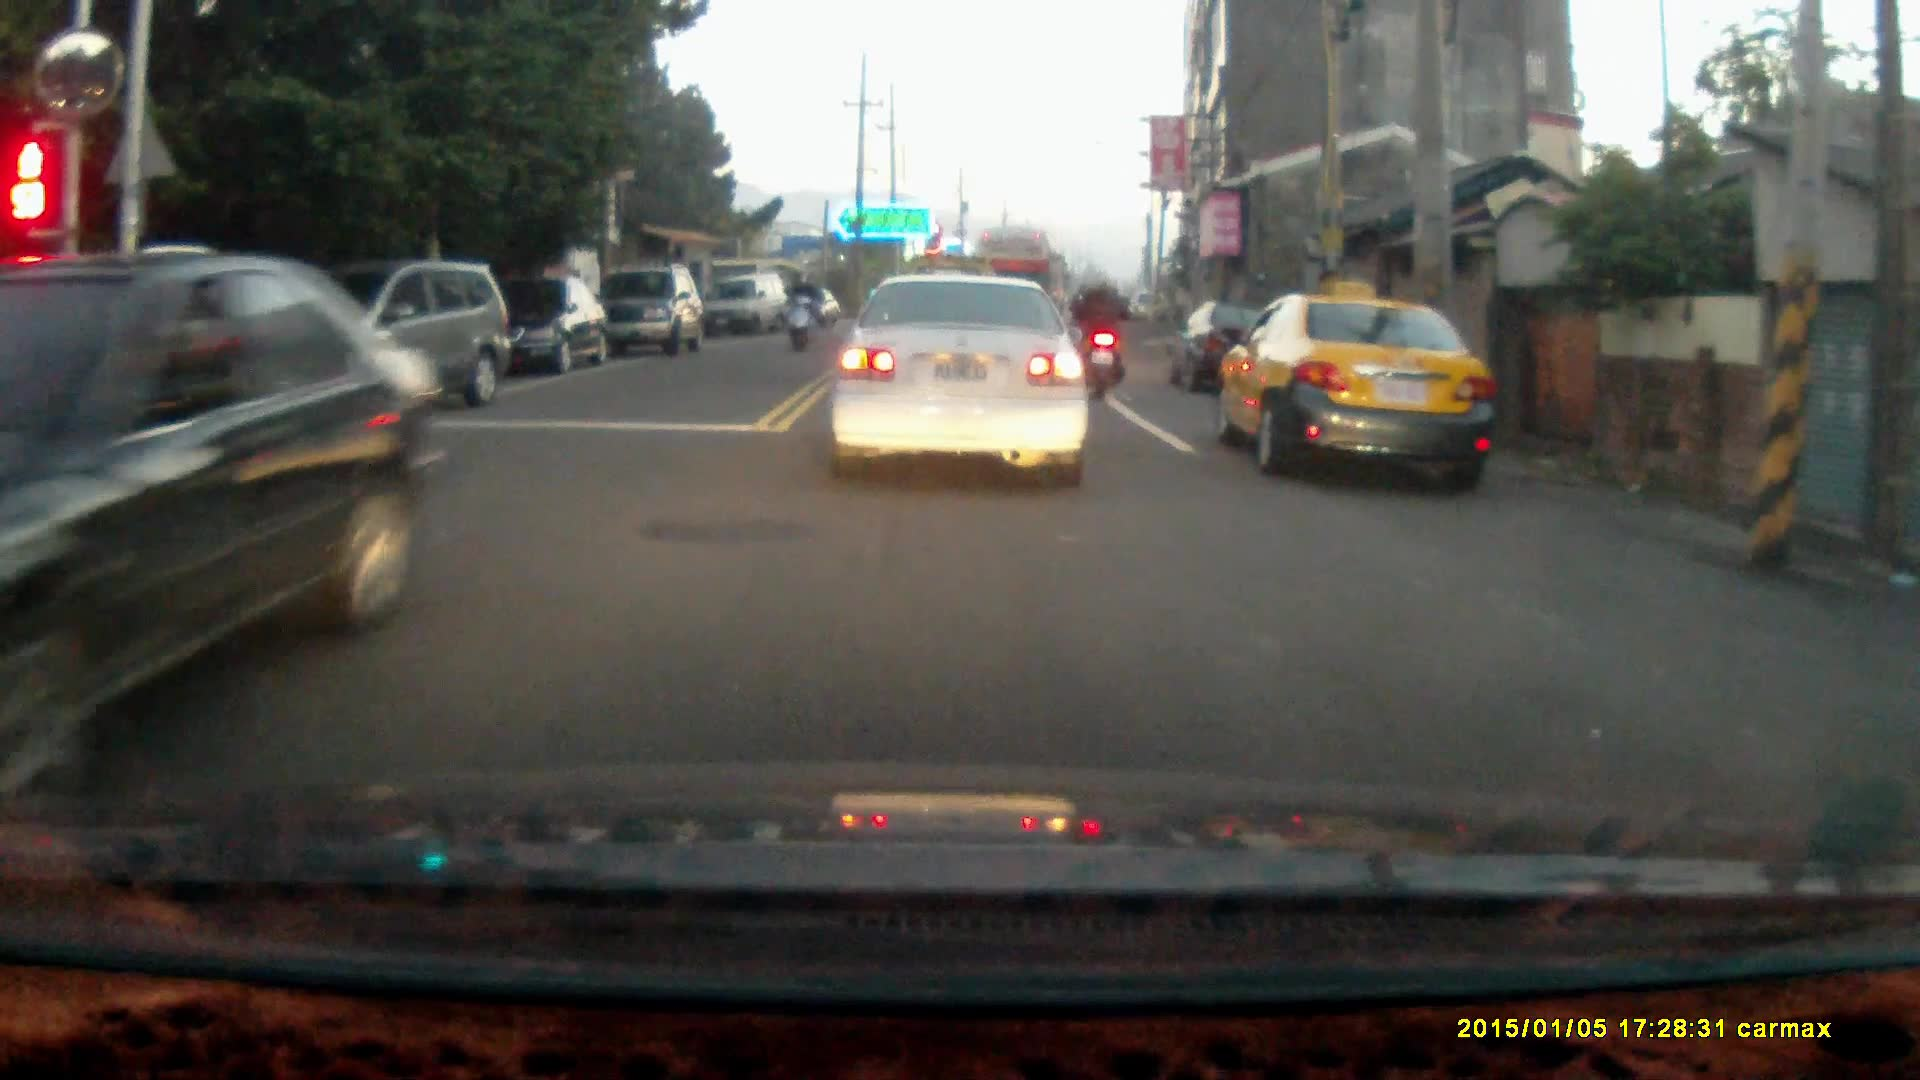rider: (1069, 271, 1129, 405), (782, 271, 817, 354)
vehicle: (1, 271, 441, 771), (825, 284, 1101, 499), (1221, 295, 1498, 498), (474, 274, 608, 375), (598, 271, 701, 366), (710, 271, 793, 340)
